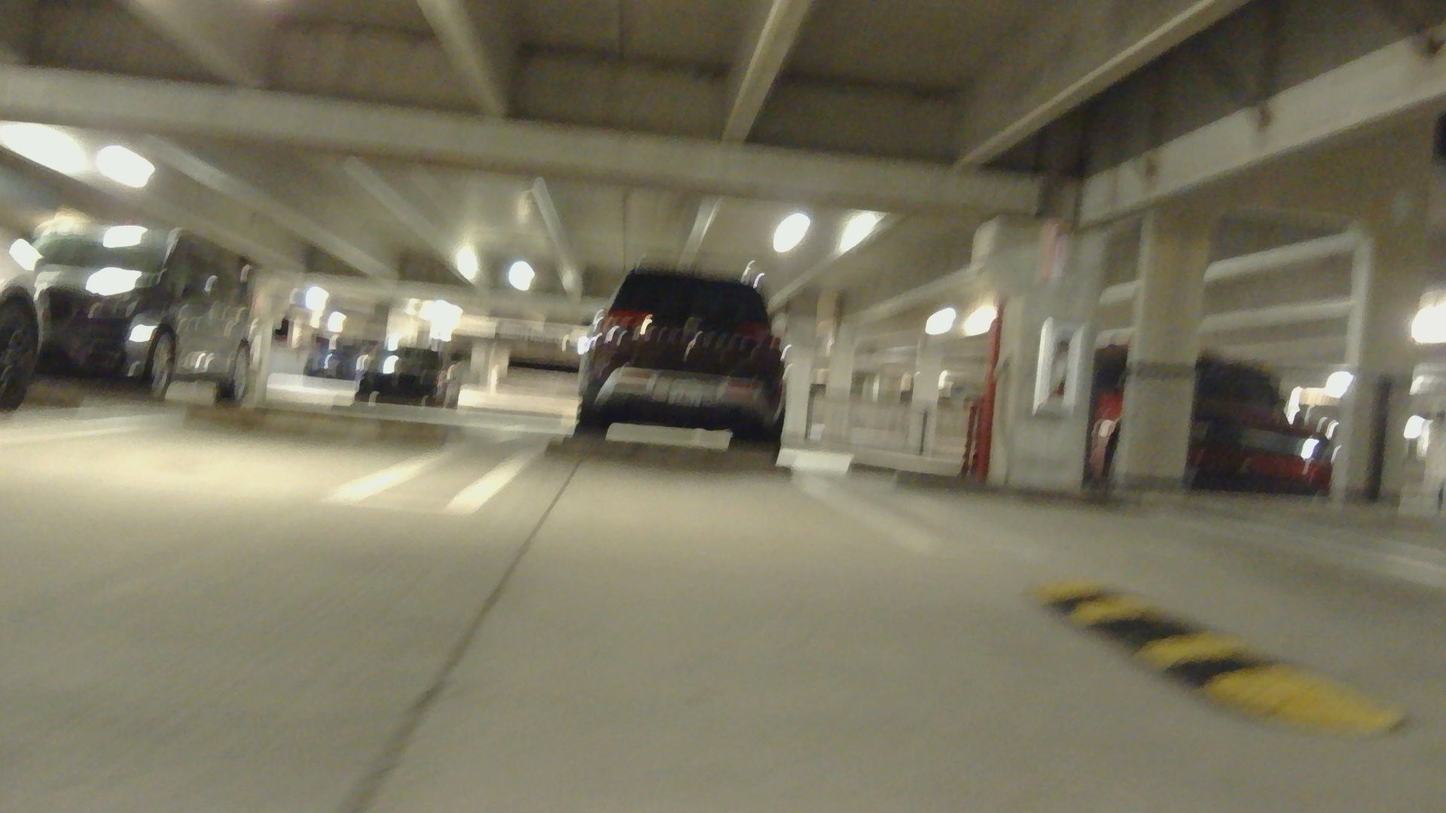empty_spot: (443, 432, 979, 555), (0, 392, 485, 515), (878, 472, 1446, 577)
